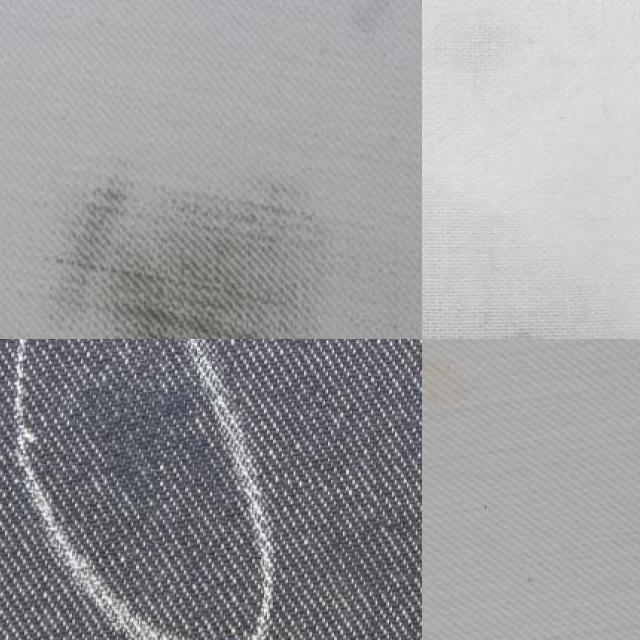Thread_other: (16, 124, 362, 339)
